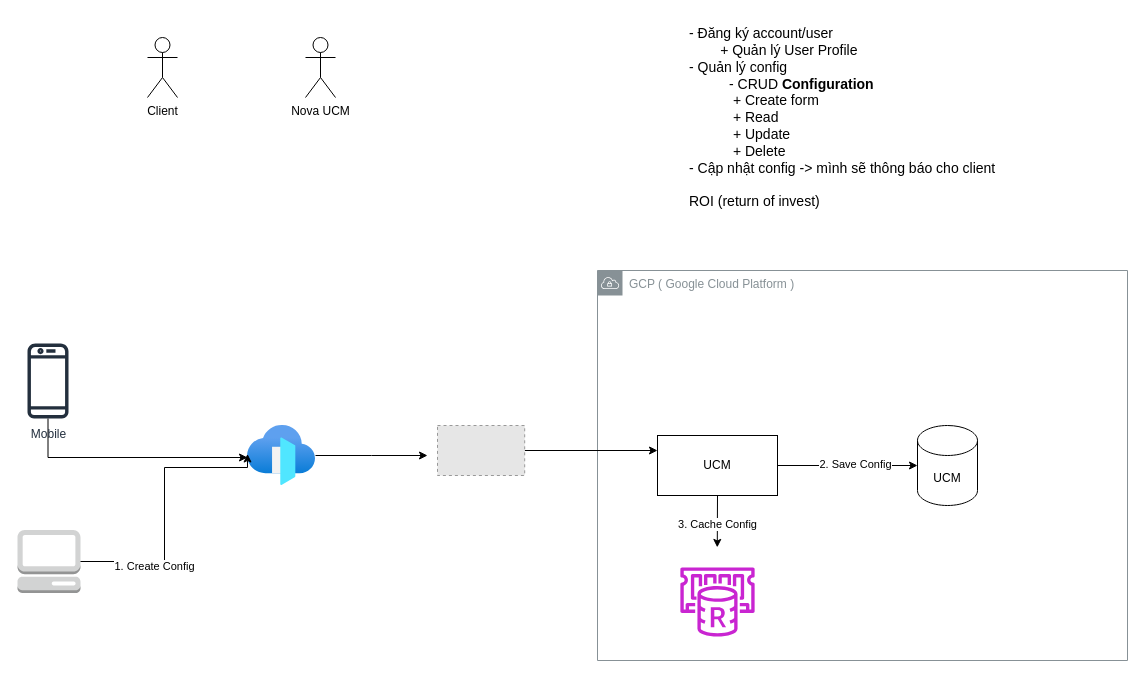
The diagram is 1145 pixels wide and 678 high, and some of its shapes have lost their labels. Grey dashed boxes stand in for pictures. The shapes that lost their labels are listed below. From the top down, each one's box as (x1, y1, x2, y2) in pixels, then its label:
(247, 425, 315, 485): UCM Front End - HTML - CSS - Javascript
(678, 567, 756, 636): Cache
